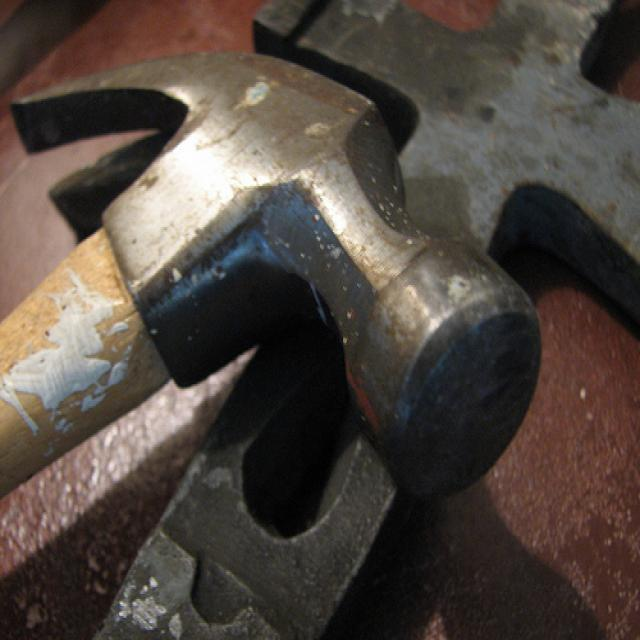hammer: (0, 29, 561, 534)
